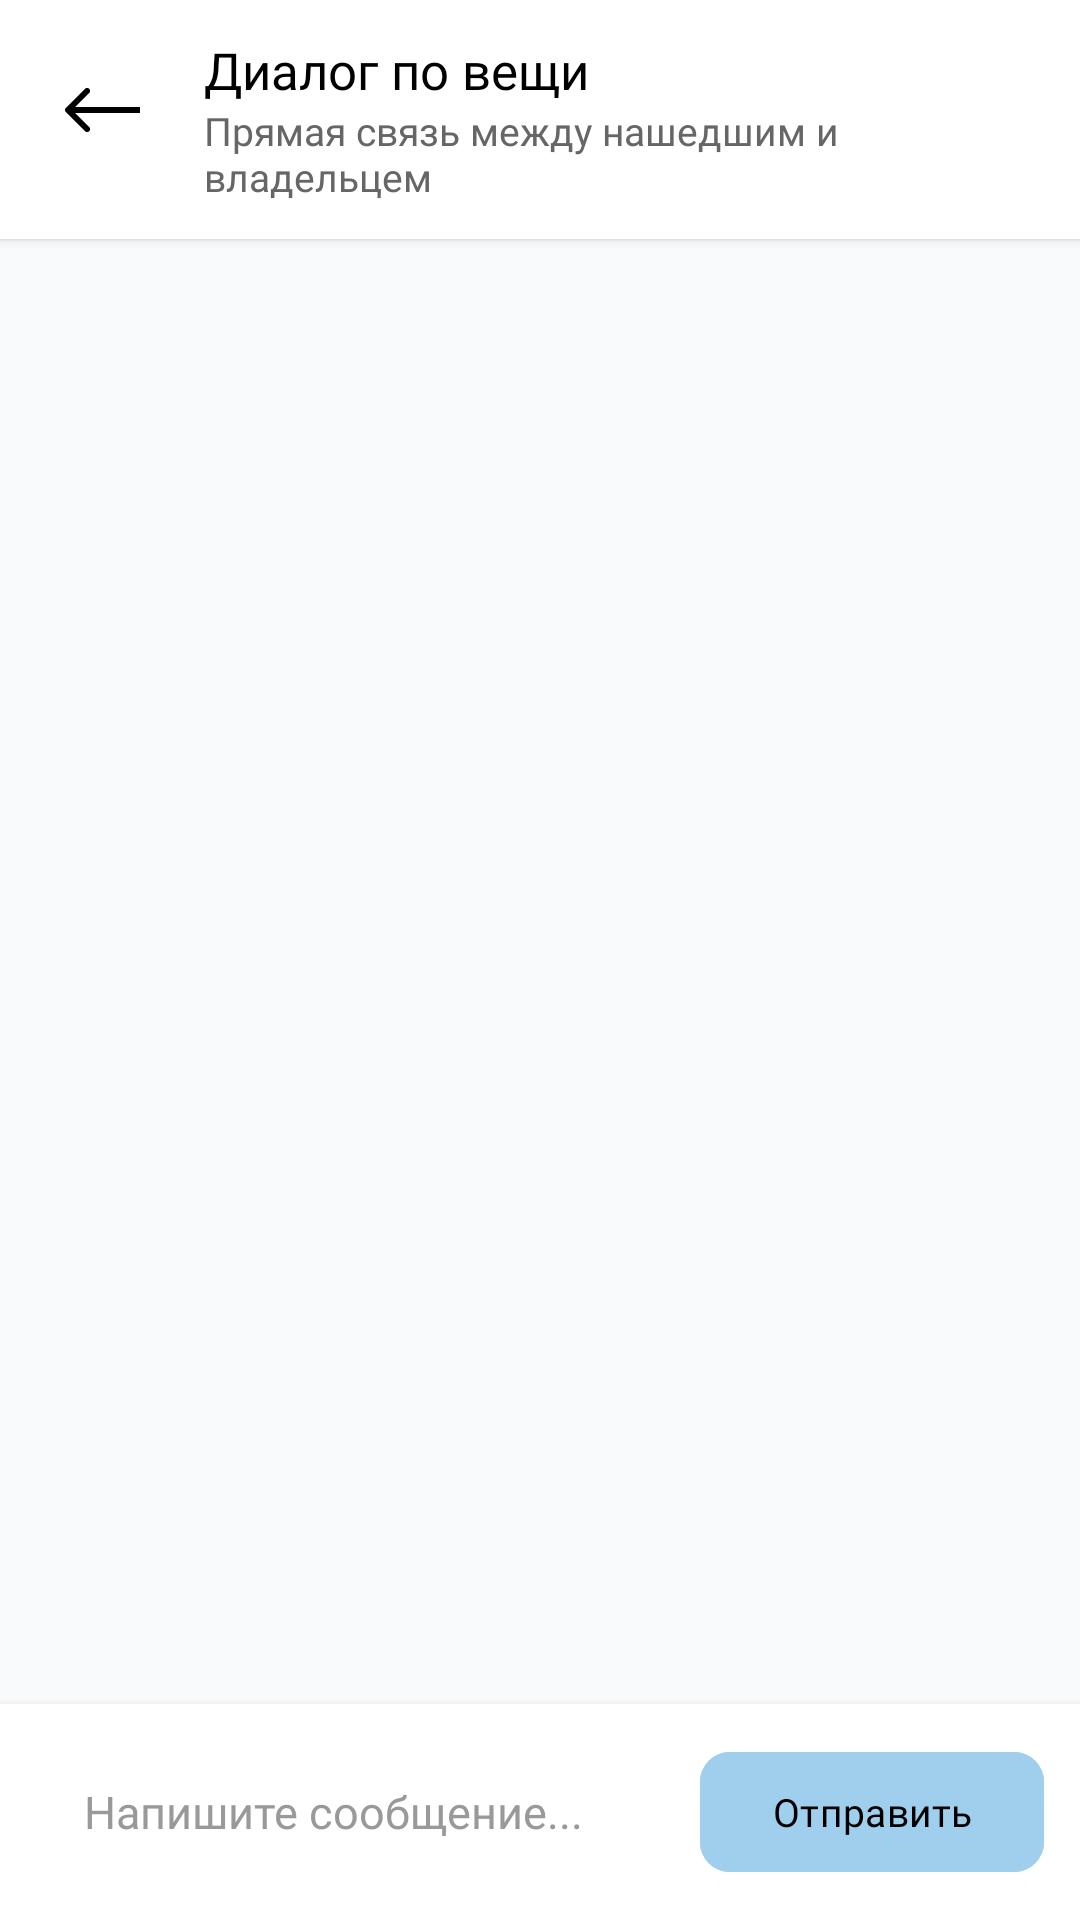

Locate icon controls on the screen. Image size 1080x1920, boxes as (x1, y1, x2, y2).
Назад: (65, 88, 140, 132)
